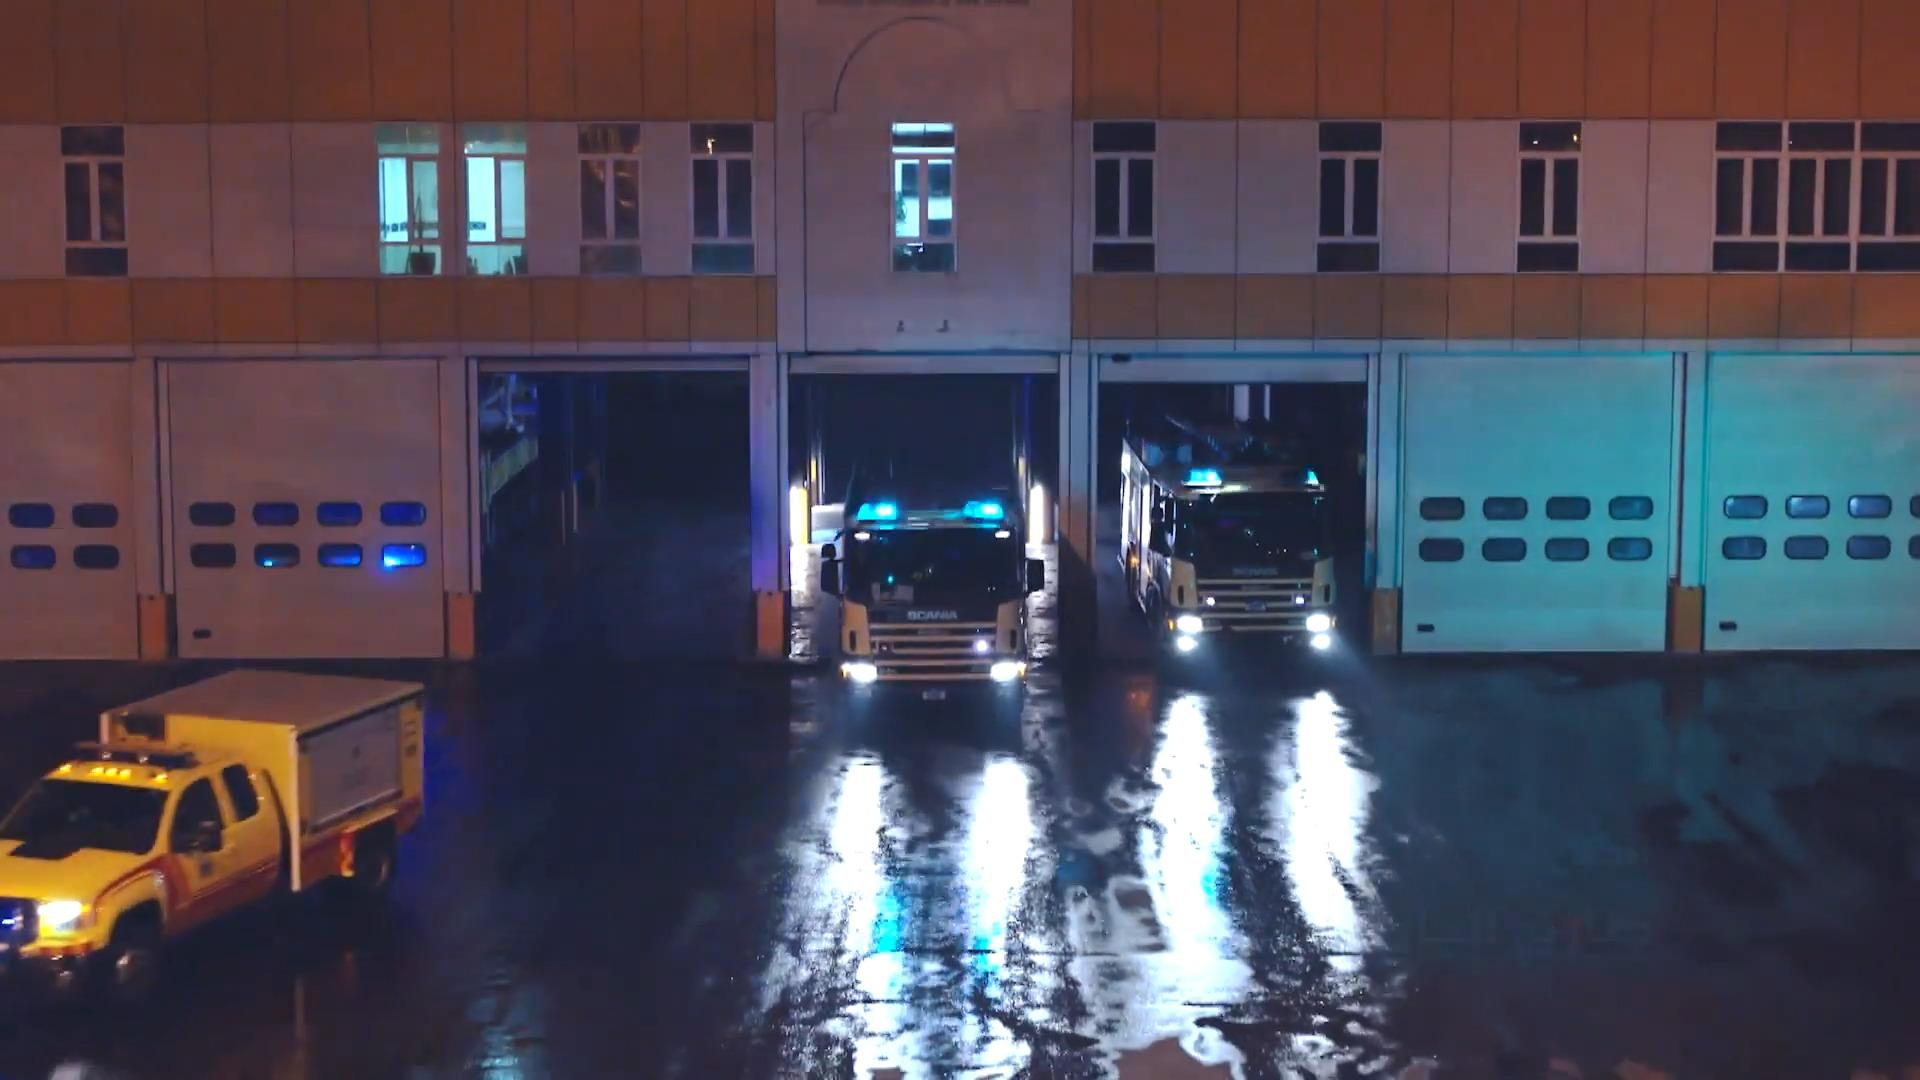firetruck_off: (0, 665, 422, 1015)
firetruck_on: (822, 442, 1044, 733), (1117, 419, 1341, 671)
